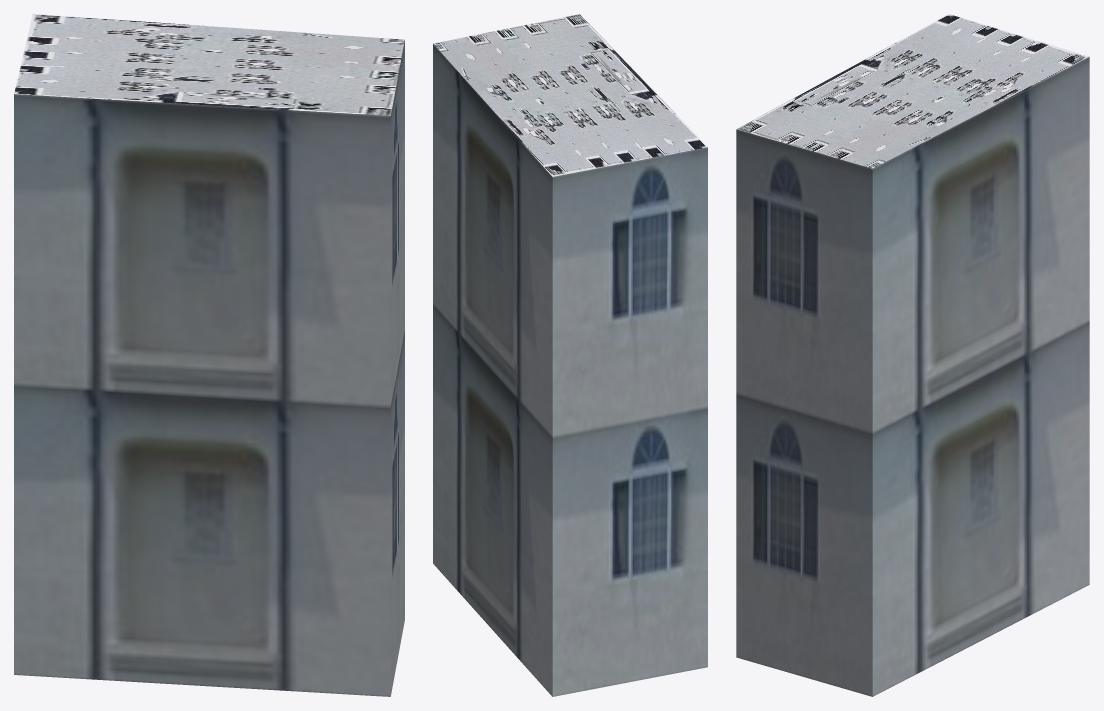
Rendered from ResTex__2201.fbx.
3 views of the same model, side by side, from view 1: azimuth 30°, elevation 25°; view 2: azimuth 150°, elevation 25°; view 3: azimuth 270°, elevation 25° (orthographic). The views are drawn at different scales.
Visible parts, largest first — view 1: CityEngineMaterial_17_m, CityEngineMaterial_2_m; view 2: CityEngineMaterial_17_m, CityEngineMaterial_2_m; view 3: CityEngineMaterial_17_m, CityEngineMaterial_2_m.
Part boxes in pixels (x1=…): CityEngineMaterial_17_m: x1=14, y1=40, x2=404, y2=696; CityEngineMaterial_2_m: x1=14, y1=14, x2=404, y2=115; CityEngineMaterial_17_m: x1=433, y1=44, x2=707, y2=696; CityEngineMaterial_2_m: x1=433, y1=14, x2=707, y2=176; CityEngineMaterial_17_m: x1=736, y1=57, x2=1089, y2=696; CityEngineMaterial_2_m: x1=737, y1=14, x2=1088, y2=168.
Size of the model in its own units: 3.77 by 6 by 3.63.
Materials: 2 (2 with a texture image).
